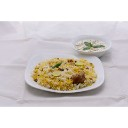briyani: (35, 56, 97, 88)
